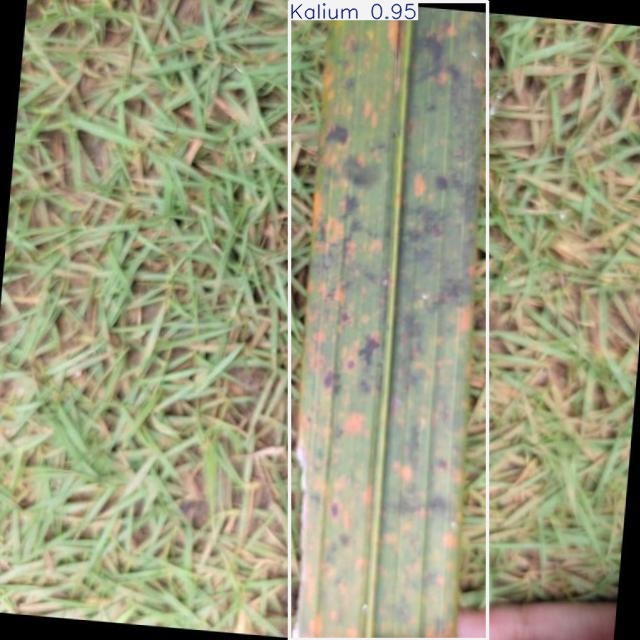Kalium: (290, 1, 488, 639)
